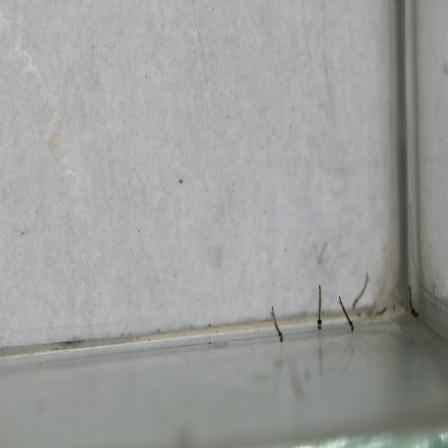Jentik-Nyamuk: (335, 267, 372, 332), (268, 303, 288, 346), (312, 280, 327, 332), (404, 279, 422, 321)
